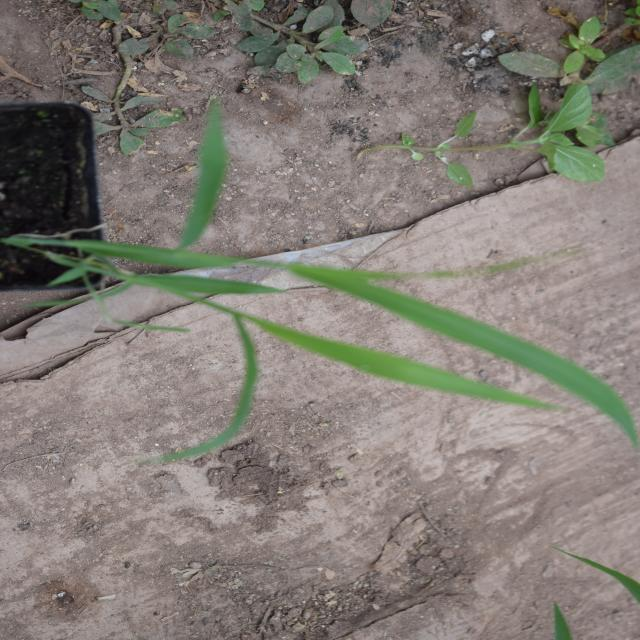crabgrass: (181, 34, 467, 480)
